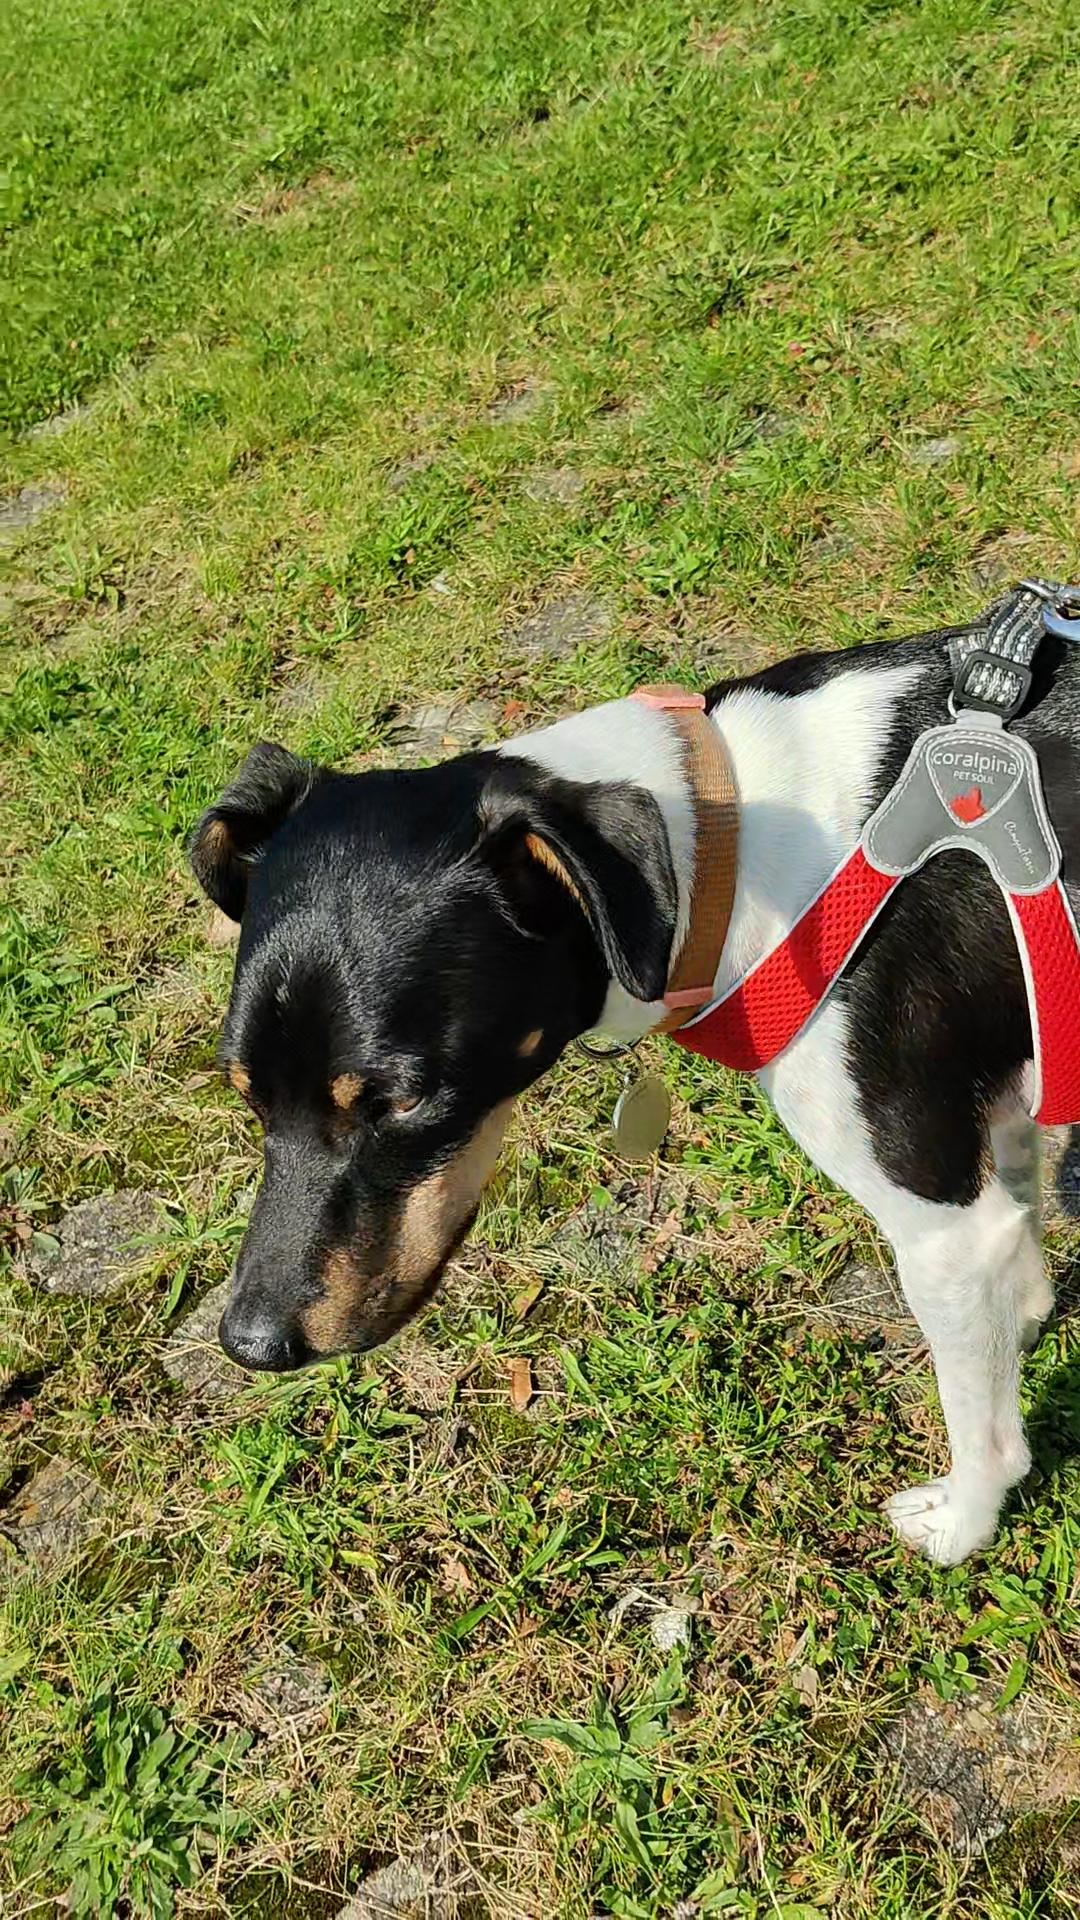Dog: (158, 564, 1079, 1582)
